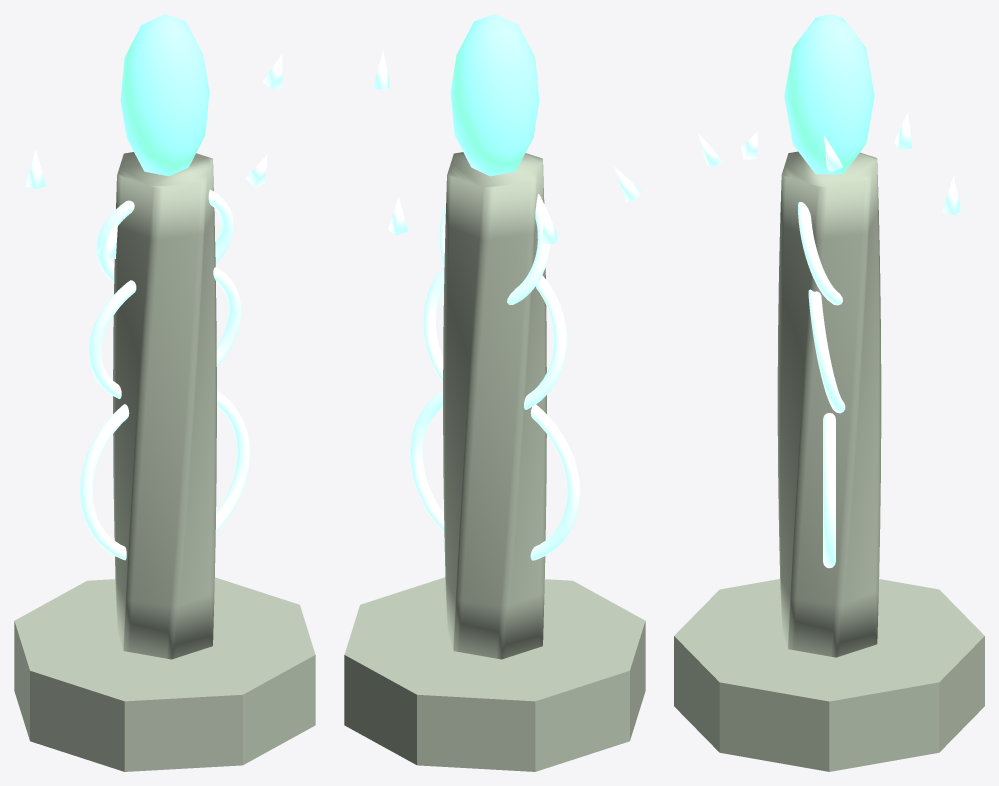
The model's file is convergence-beacon.glb.
The picture shows the model from 3 angles, left to right: view 1: azimuth 30°, elevation 25°; view 2: azimuth 150°, elevation 25°; view 3: azimuth 270°, elevation 25°; orthographic projection.
Visible parts, largest first — view 1: conv_column, conv_base, conv_crystal, conv_ring_0, conv_ring_1, conv_ring_2; view 2: conv_column, conv_base, conv_crystal, conv_ring_0, conv_ring_1, conv_ring_2; view 3: conv_column, conv_base, conv_crystal, conv_ring_0, conv_ring_1, conv_ring_2.
Part boxes in pixels (left/top/right/bottom): conv_column: left=113, top=152, right=216, bottom=659; conv_base: left=14, top=577, right=315, bottom=771; conv_crystal: left=120, top=14, right=209, bottom=176; conv_ring_0: left=79, top=391, right=250, bottom=560; conv_ring_1: left=88, top=267, right=241, bottom=398; conv_ring_2: left=96, top=189, right=233, bottom=282; conv_column: left=443, top=152, right=546, bottom=659; conv_base: left=344, top=577, right=645, bottom=771; conv_crystal: left=450, top=14, right=539, bottom=176; conv_ring_0: left=409, top=391, right=580, bottom=560; conv_ring_1: left=423, top=268, right=566, bottom=409; conv_ring_2: left=439, top=194, right=550, bottom=304; conv_column: left=777, top=151, right=881, bottom=657; conv_base: left=674, top=579, right=984, bottom=771; conv_crystal: left=784, top=14, right=874, bottom=174; conv_ring_0: left=823, top=413, right=835, bottom=568; conv_ring_1: left=808, top=289, right=845, bottom=413; conv_ring_2: left=798, top=202, right=842, bottom=305.
Size of the model in its own units: 1.2 by 2.95 by 1.2.
